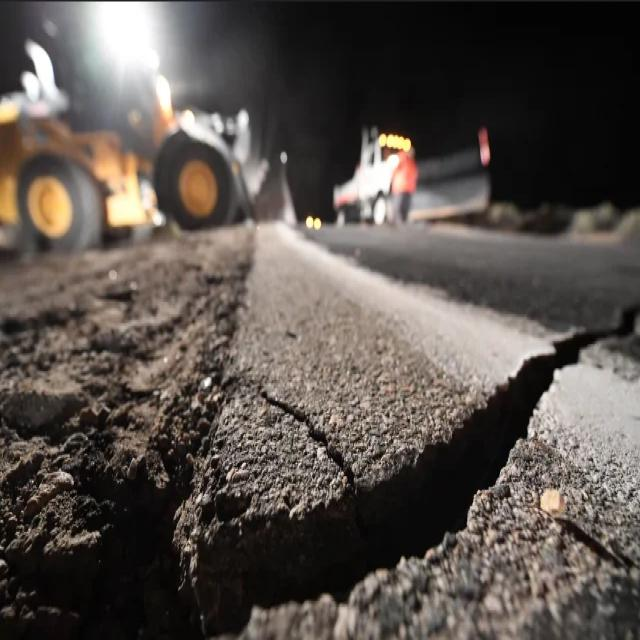Pothole: (95, 422, 587, 640)
